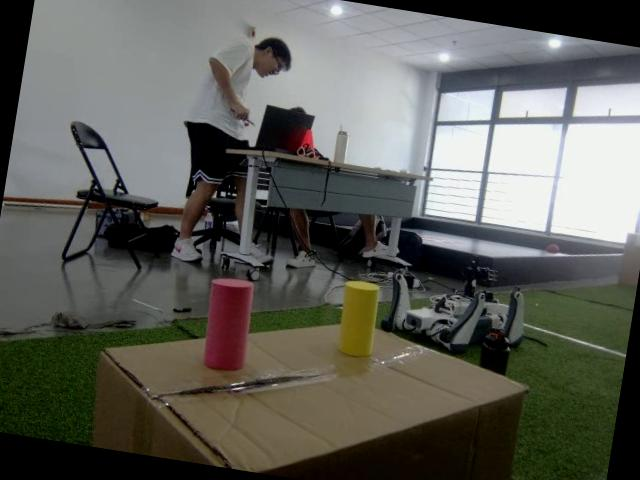red_cylinder: (196, 276, 256, 374)
yellow_cylinder: (333, 279, 381, 359)
